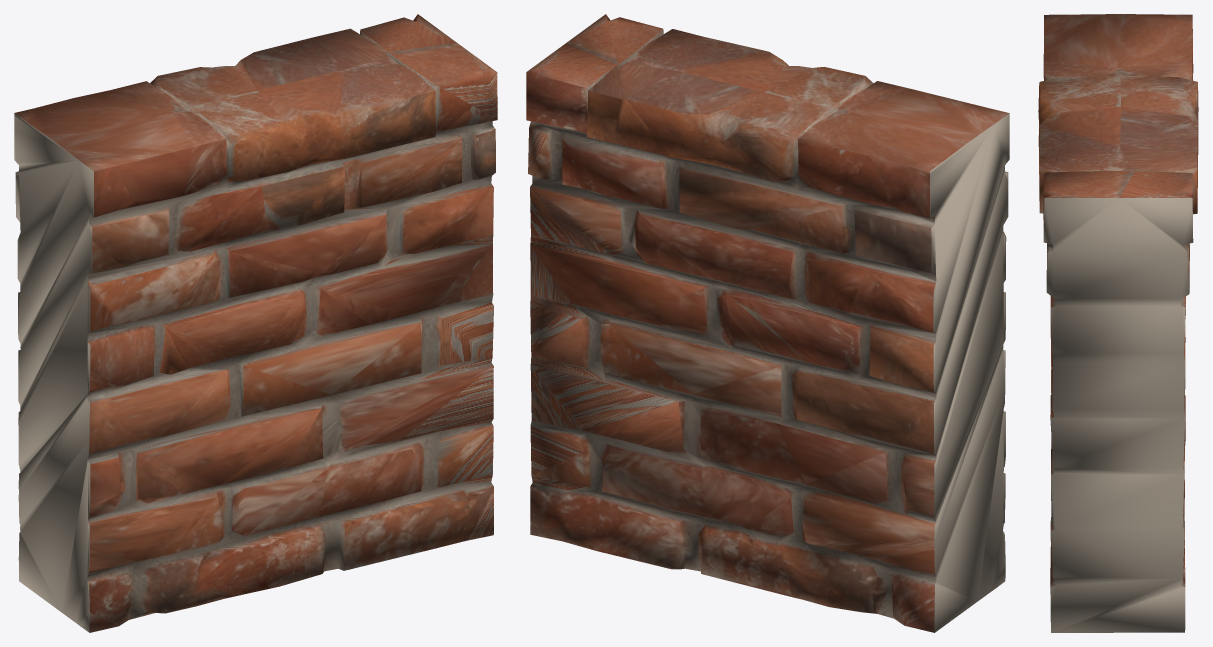
File: broken-red-brick-wall-end-right.glb
The picture shows the model from 3 angles, left to right: view 1: azimuth 30°, elevation 25°; view 2: azimuth 150°, elevation 25°; view 3: azimuth 270°, elevation 25°; orthographic projection. The views are drawn at different scales.
Parts seen in each view (by area): view 1: broken-red-brick-wall-end-right; view 2: broken-red-brick-wall-end-right; view 3: broken-red-brick-wall-end-right.
Boxes of the visible parts, x1,y1,x2,y2 form: broken-red-brick-wall-end-right: (14, 14, 497, 632); broken-red-brick-wall-end-right: (526, 14, 1009, 632); broken-red-brick-wall-end-right: (1038, 14, 1198, 632).
Size of the model in its own units: 0.9501 by 1.05 by 0.3494.
2 materials, 1 textured.
